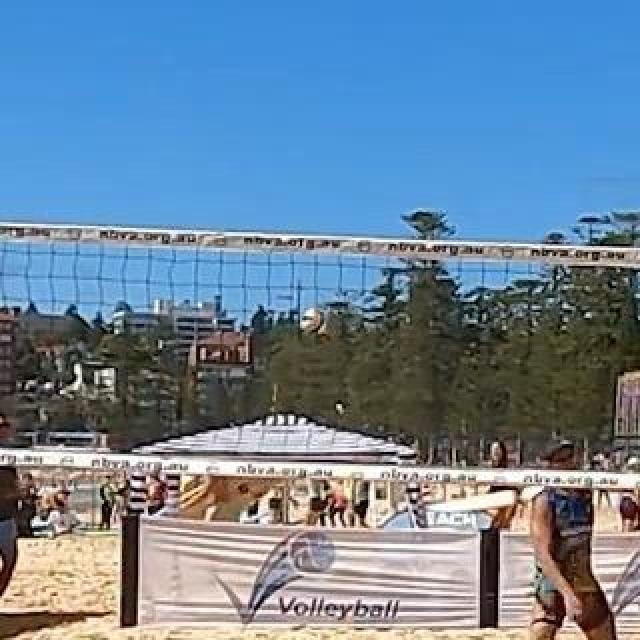volleyball: (301, 309, 325, 333)
